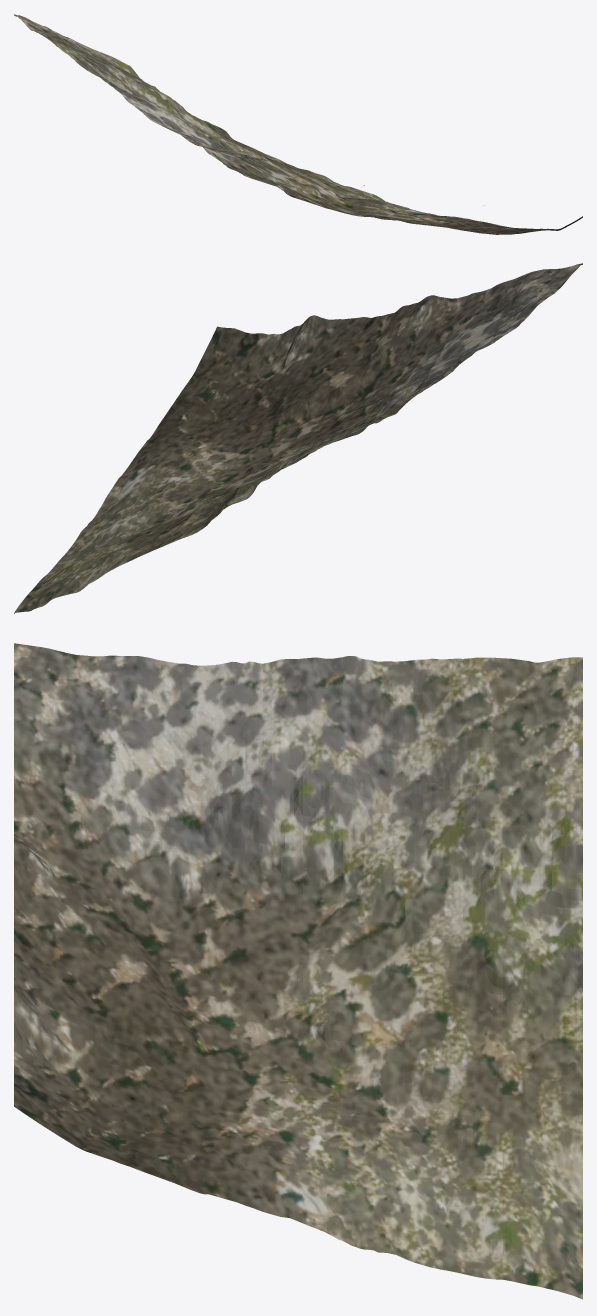
3 renders of one model, top to bottom at view 1: azimuth 30°, elevation 25°; view 2: azimuth 150°, elevation 25°; view 3: azimuth 270°, elevation 25°, orthographic. The views are drawn at different scales.
Size of the model in its own units: 250 by 191 by 241.
1 material, 1 textured.
